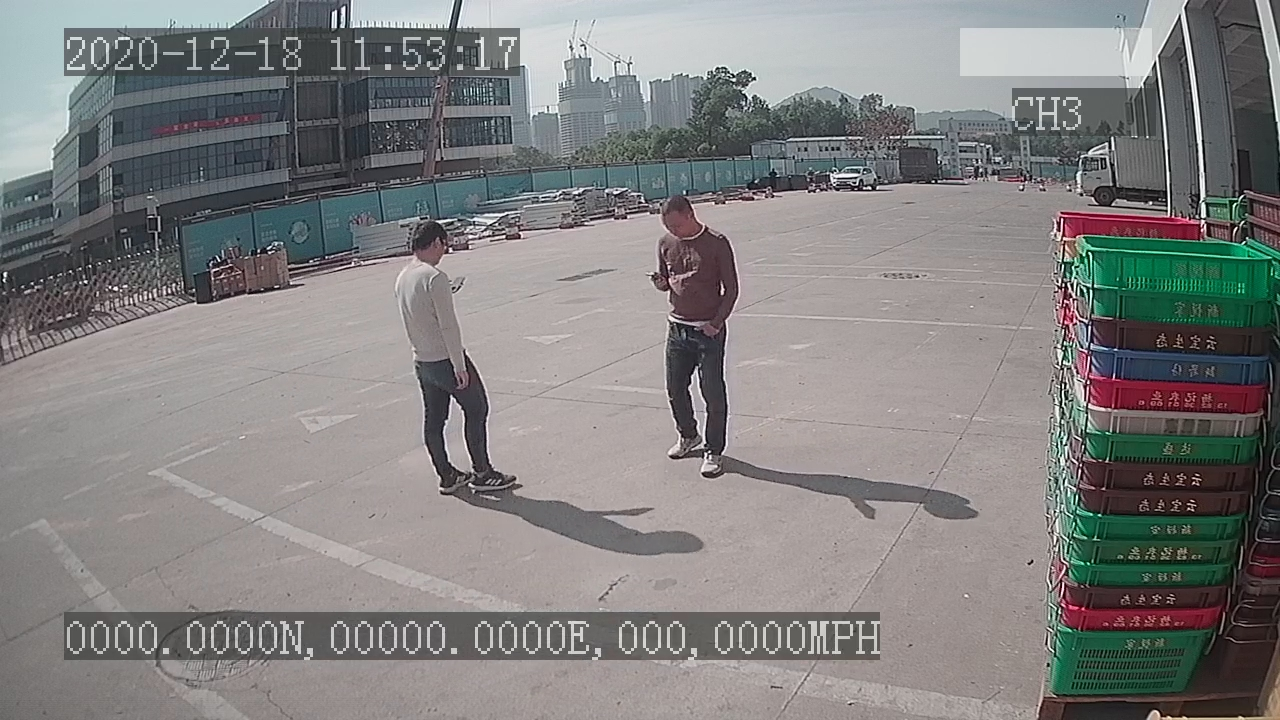person: (386, 215, 527, 501), (640, 190, 745, 483)
